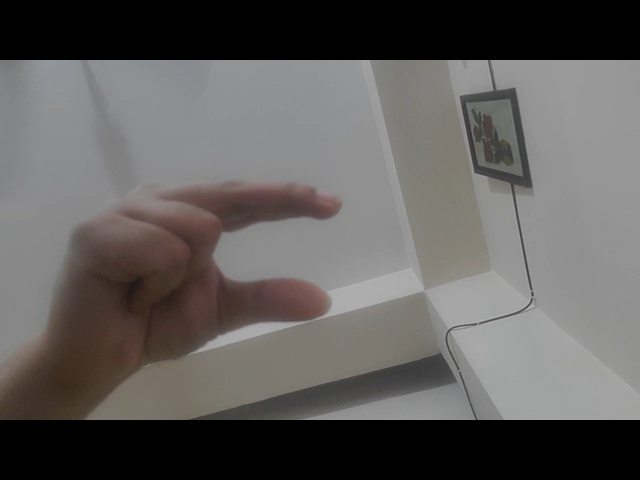No: (25, 159, 354, 389)
